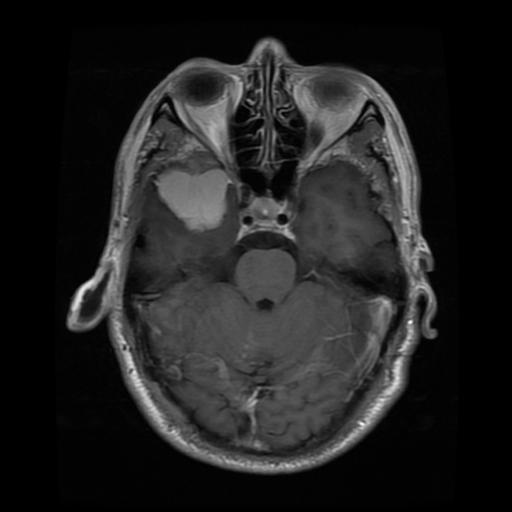Menigiomia_tumour: (154, 168, 231, 232)
